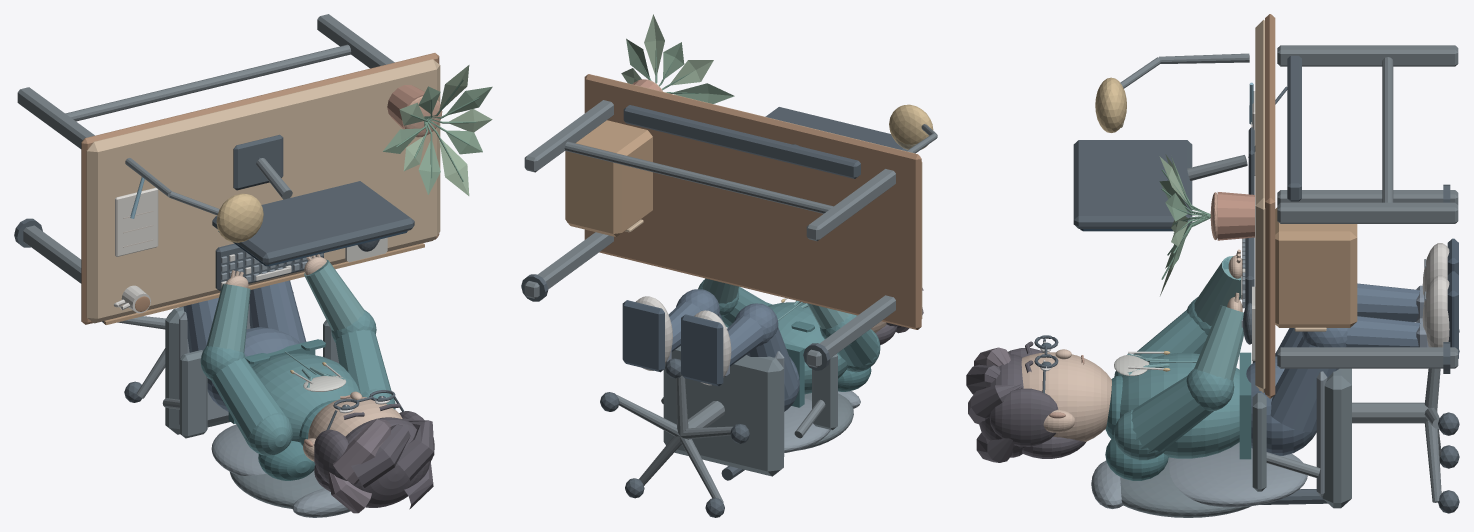
Rendered from ergonomics-working.glb.
3 views of the same model, side by side, from view 1: azimuth 30°, elevation 25°; view 2: azimuth 150°, elevation 25°; view 3: azimuth 270°, elevation 25° (orthographic). The views are drawn at different scales.
Visible parts, largest first — view 1: 0000__desk_solid_oak_top, 0014__monitor_27_bezel, animated_0000__hoodie_main_torso, 0001__desk_beveled_oak_rim, 0009__crossbar, animated_0057__sleeve_upper, 0089__notebook, animated_0076__sleeve_upper, animated_0065__jeans_thigh, animated_0078__sleeve_forearm, 0144__armrest_cushion, animated_0059__sleeve_forearm (+32 smaller); view 2: 0001__desk_beveled_oak_rim, 0136__chair_base_seat, 0011__drawer_shell, 0010__cable_management, 0009__crossbar, animated_0051__rubber_sole, animated_0070__rubber_sole, 0004__powder_coated_leg, 0006__powder_coated_leg, animated_0000__hoodie_main_torso, 0003__powder_coated_leg, 0014__monitor_27_bezel (+30 smaller); view 3: 0014__monitor_27_bezel, 0011__drawer_shell, 0139__lumbar_support, animated_0000__hoodie_main_torso, animated_0017__face_head, 0001__desk_beveled_oak_rim, 0006__powder_coated_leg, 0000__desk_solid_oak_top, 0005__powder_coated_leg, 0136__chair_base_seat, 0004__powder_coated_leg, animated_0076__sleeve_upper (+39 smaller).
Part boxes in pixels (x1,y1,x2,y2): 0000__desk_solid_oak_top: [86, 59, 440, 323]; 0014__monitor_27_bezel: [212, 181, 414, 265]; animated_0000__hoodie_main_torso: [252, 353, 359, 442]; 0001__desk_beveled_oak_rim: [81, 53, 439, 324]; 0009__crossbar: [65, 44, 351, 121]; animated_0057__sleeve_upper: [211, 358, 283, 441]; 0089__notebook: [115, 187, 158, 256]; animated_0076__sleeve_upper: [335, 329, 391, 394]; animated_0065__jeans_thigh: [249, 280, 306, 342]; animated_0078__sleeve_forearm: [304, 259, 364, 331]; 0144__armrest_cushion: [180, 350, 207, 438]; animated_0059__sleeve_forearm: [206, 284, 250, 352]; 0001__desk_beveled_oak_rim: [584, 74, 921, 329]; 0136__chair_base_seat: [663, 346, 783, 476]; 0011__drawer_shell: [565, 120, 652, 237]; 0010__cable_management: [623, 105, 860, 178]; 0009__crossbar: [564, 141, 833, 213]; animated_0051__rubber_sole: [681, 314, 723, 386]; animated_0070__rubber_sole: [622, 300, 664, 372]; 0004__powder_coated_leg: [806, 169, 895, 241]; 0006__powder_coated_leg: [524, 100, 613, 172]; animated_0000__hoodie_main_torso: [768, 302, 847, 394]; 0003__powder_coated_leg: [806, 295, 895, 367]; 0014__monitor_27_bezel: [765, 107, 907, 150]; 0014__monitor_27_bezel: [1073, 140, 1192, 228]; 0011__drawer_shell: [1275, 207, 1357, 327]; 0139__lumbar_support: [1169, 442, 1307, 507]; animated_0000__hoodie_main_torso: [1120, 353, 1239, 458]; animated_0017__face_head: [1021, 352, 1111, 441]; 0001__desk_beveled_oak_rim: [1265, 14, 1275, 398]; 0006__powder_coated_leg: [1277, 202, 1458, 223]; 0000__desk_solid_oak_top: [1255, 19, 1265, 393]; 0005__powder_coated_leg: [1277, 347, 1458, 368]; 0136__chair_base_seat: [1322, 368, 1351, 508]; 0004__powder_coated_leg: [1277, 45, 1458, 66]; animated_0076__sleeve_upper: [1131, 375, 1213, 452].
Bounding box in the file's own units: 1.7 × 1.79 × 1.85.
